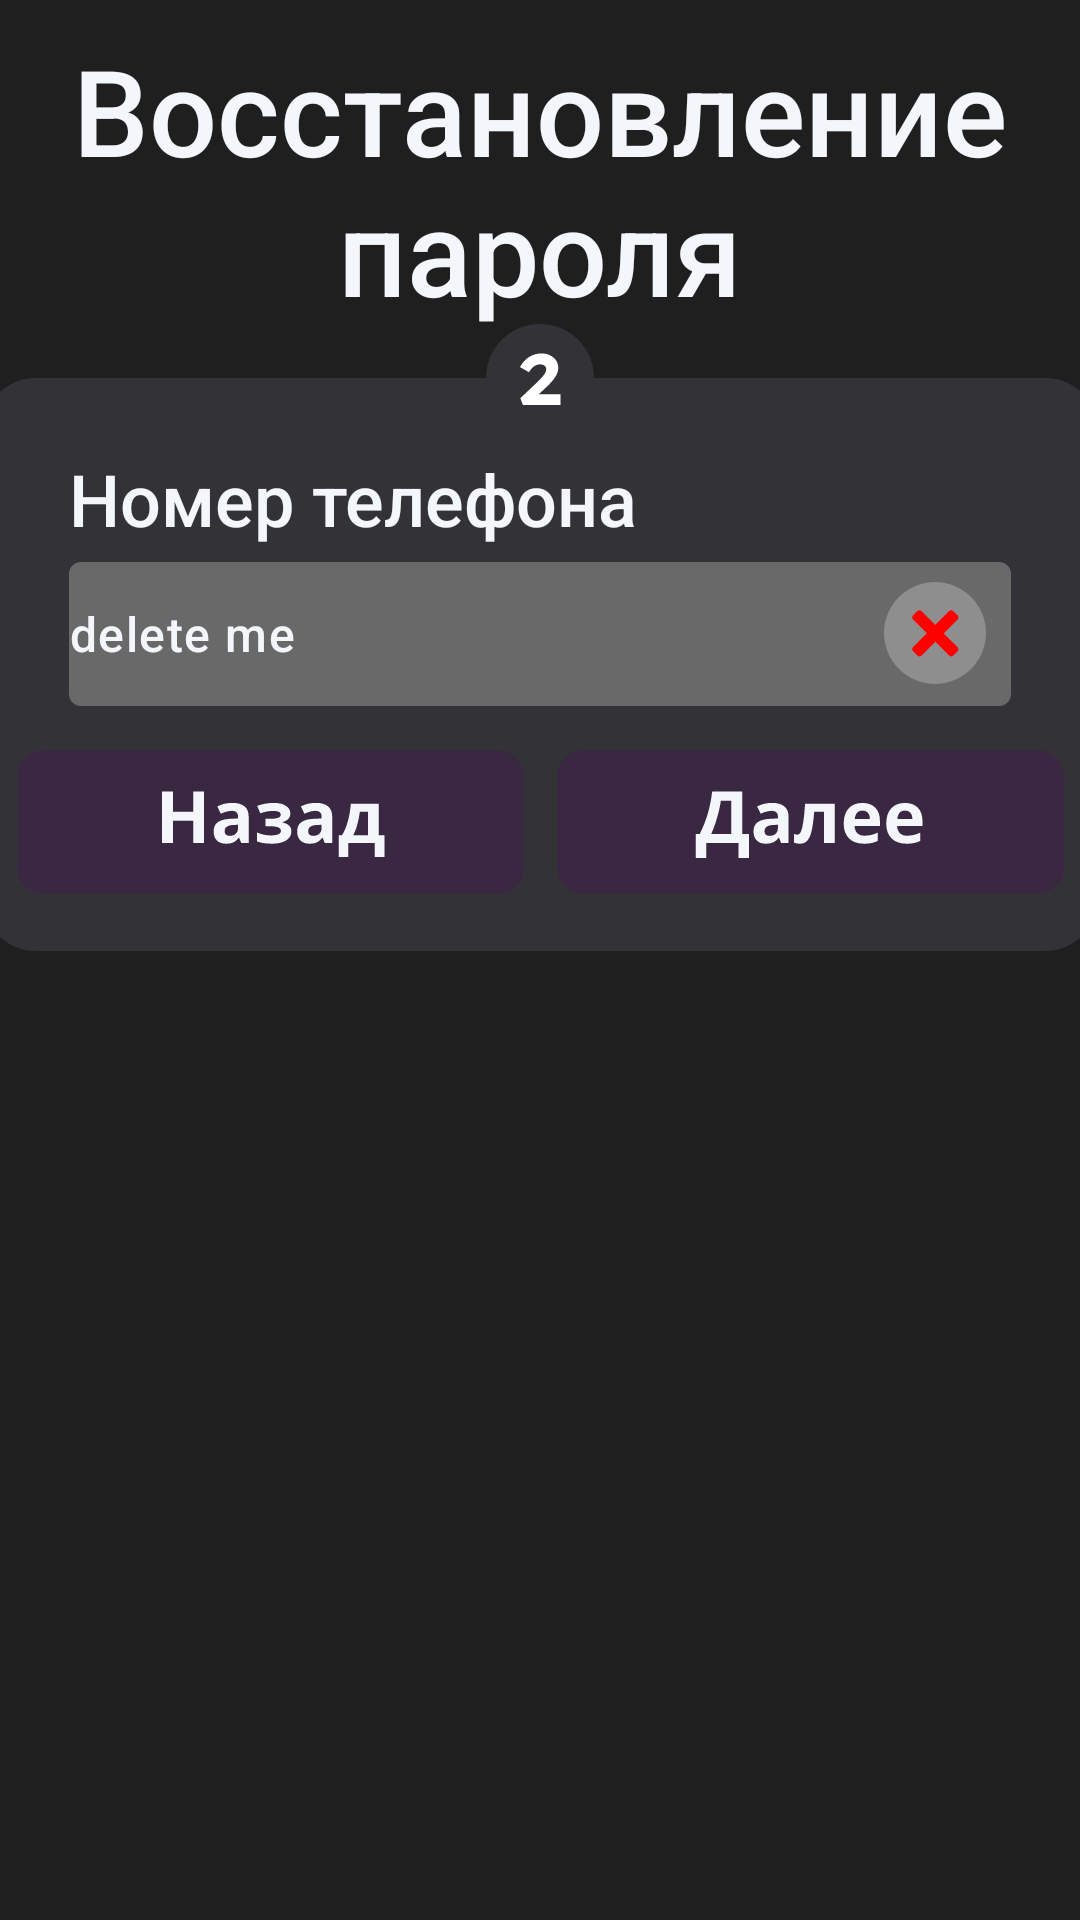

Icons on this 1080 × 1920 Android screen, each with the point to tap as (x=x, y=y):
wronglineimage: (x=935, y=633)
